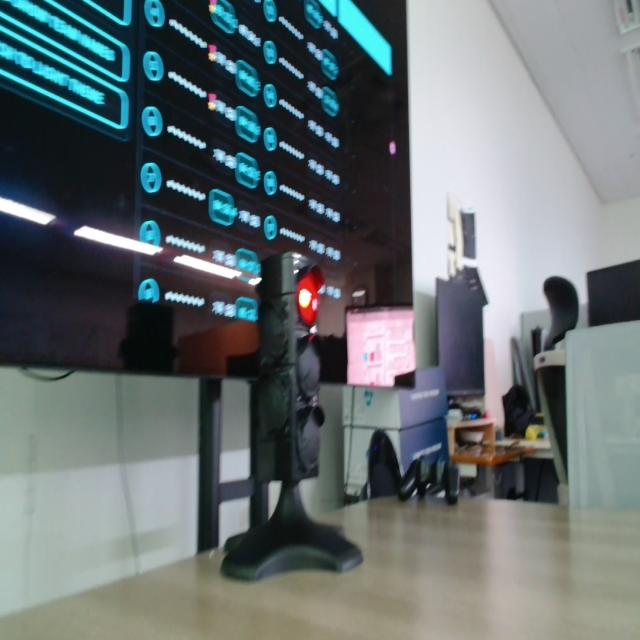red_light: (298, 267, 324, 326), (298, 276, 318, 326), (299, 288, 312, 309)
